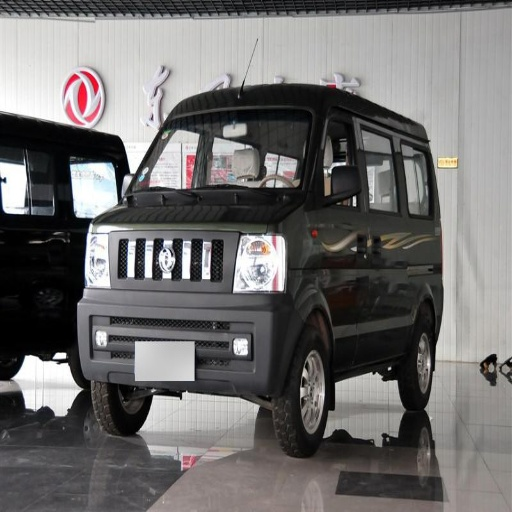back_glass: (187, 111, 301, 180)
front_left_door: (310, 104, 380, 361)
trunk: (239, 321, 293, 380)
